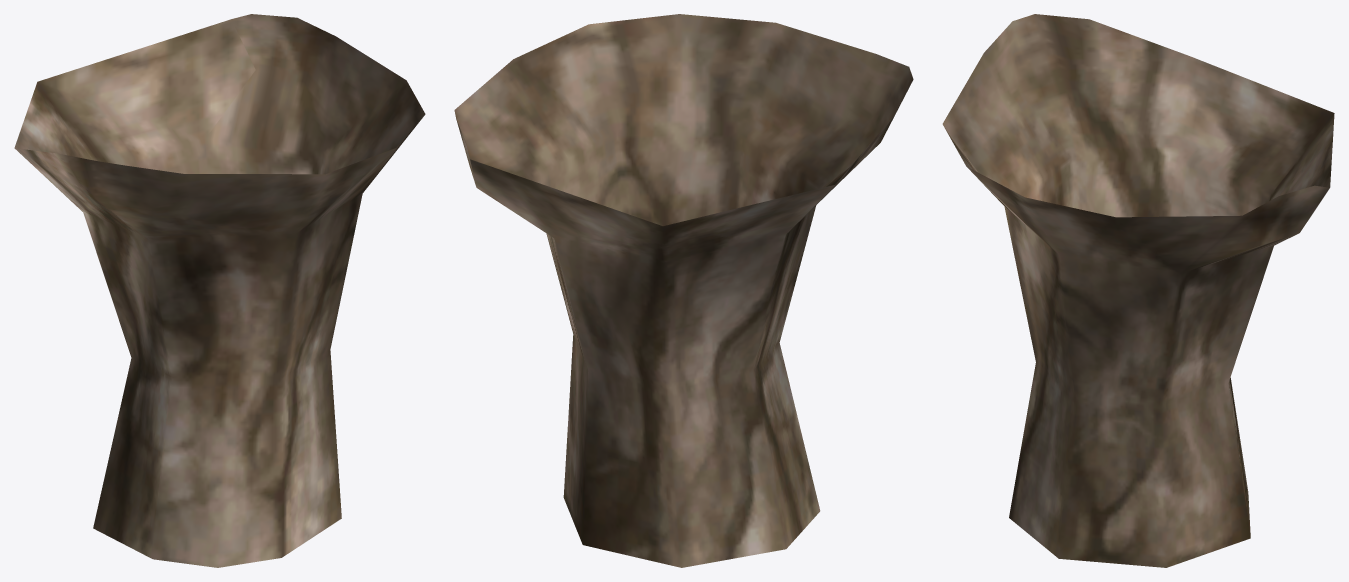
The model's file is EKH_JAIL_PS_JA_PILLAR9383866.fbx.
3 views of the same model, side by side, from view 1: azimuth 30°, elevation 25°; view 2: azimuth 150°, elevation 25°; view 3: azimuth 270°, elevation 25° (orthographic). The views are drawn at different scales.
Visible parts, largest first — view 1: EKH_JAIL_PS_JA_PILLAR9383866; view 2: EKH_JAIL_PS_JA_PILLAR9383866; view 3: EKH_JAIL_PS_JA_PILLAR9383866.
Part boxes in pixels (left/top/right/bottom): EKH_JAIL_PS_JA_PILLAR9383866: left=14, top=14, right=425, bottom=567; EKH_JAIL_PS_JA_PILLAR9383866: left=454, top=14, right=913, bottom=567; EKH_JAIL_PS_JA_PILLAR9383866: left=942, top=14, right=1334, bottom=567.
Size of the model in its own units: 24674 by 27978 by 23575.
Materials: 1 (1 with a texture image).
